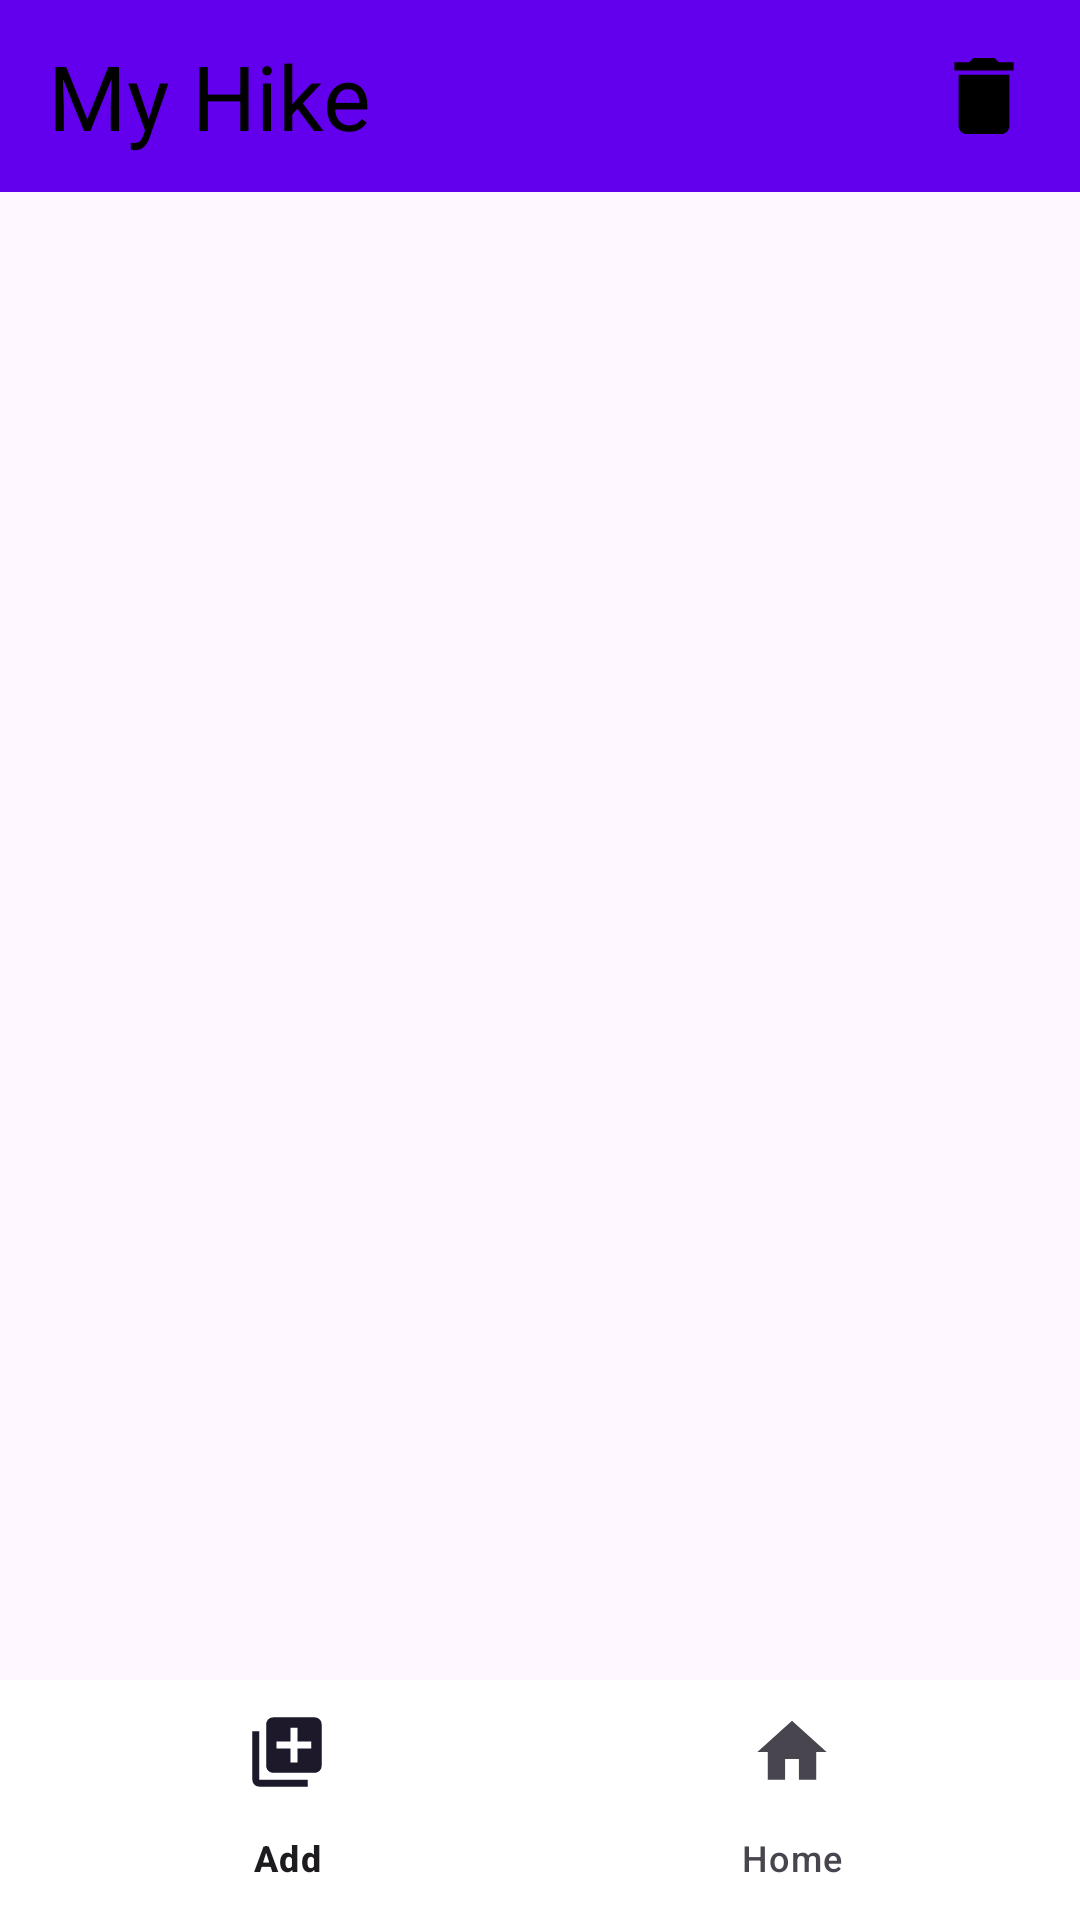

Where icons sit on this 1080x1920 app screen, as (x1, y1, x2, y2):
delete: (954, 58, 1014, 134)
